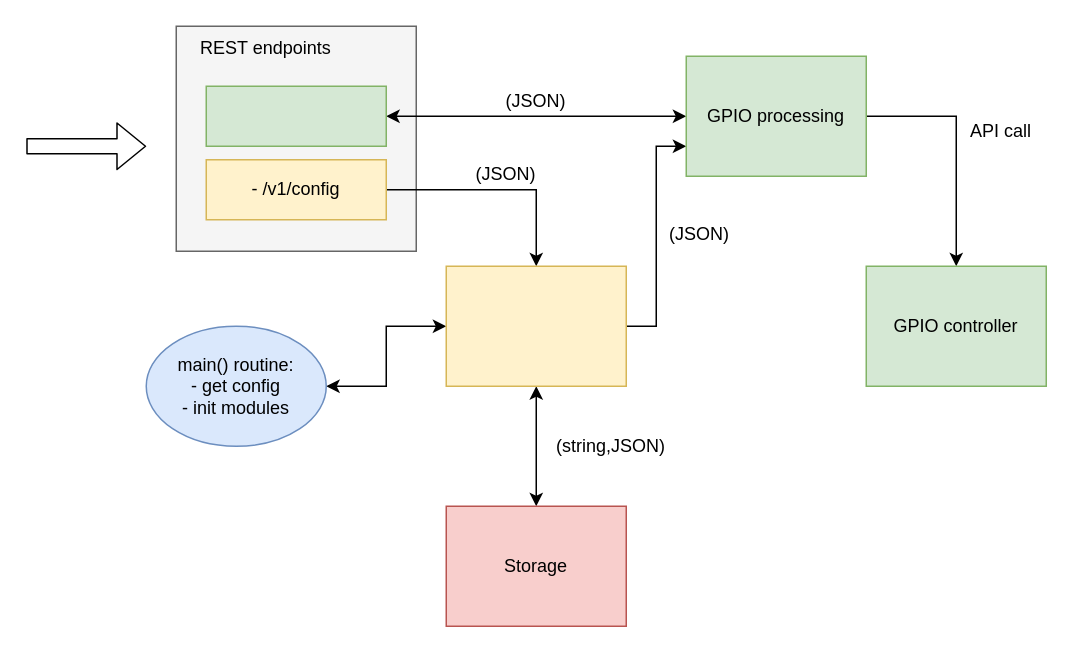
Image size: 1073x653. Some labels were removed from this diagram. The shapes that lost their labels are listed below. From the top down, each one's centre as x and y in pixels, then its label:
At pixel 295 115: "- /v1/gpio".
At pixel 535 325: "Config processing".
